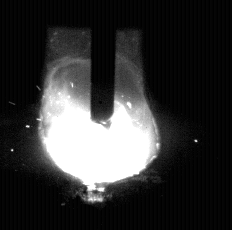arame: (91, 0, 115, 130)
poca: (37, 0, 161, 230)
